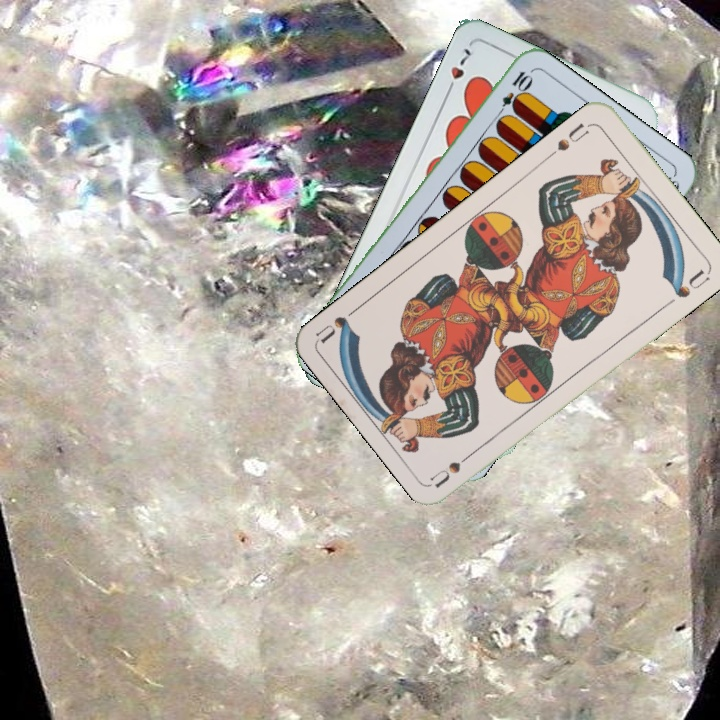E10: (492, 67, 534, 121)
H7: (442, 44, 474, 98)
SU: (427, 444, 481, 489), (544, 119, 595, 161)
